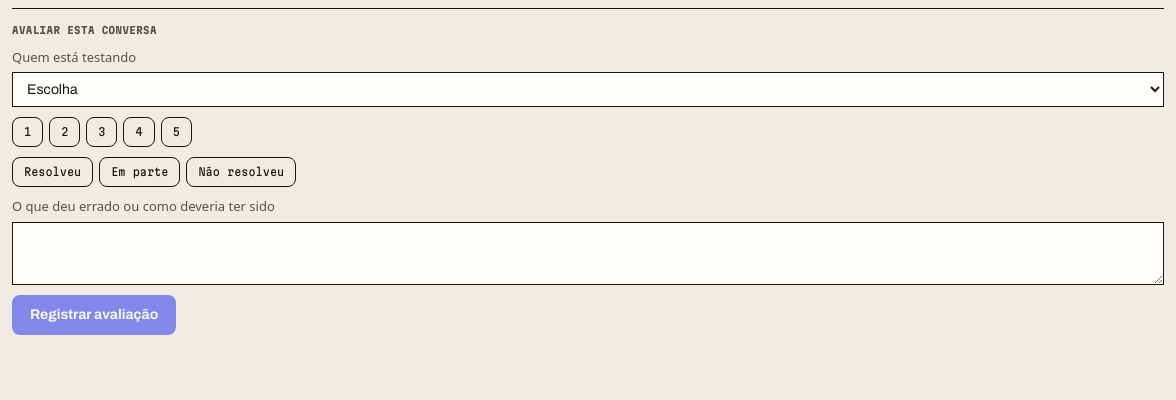
Test: falha ao enviar avisa e deixa tentar de novo
Step 1. Select "Prism411" in the dropdown labelled "Quem está testando" → {"x": 588, "y": 90}, box [12,72,1164,107]
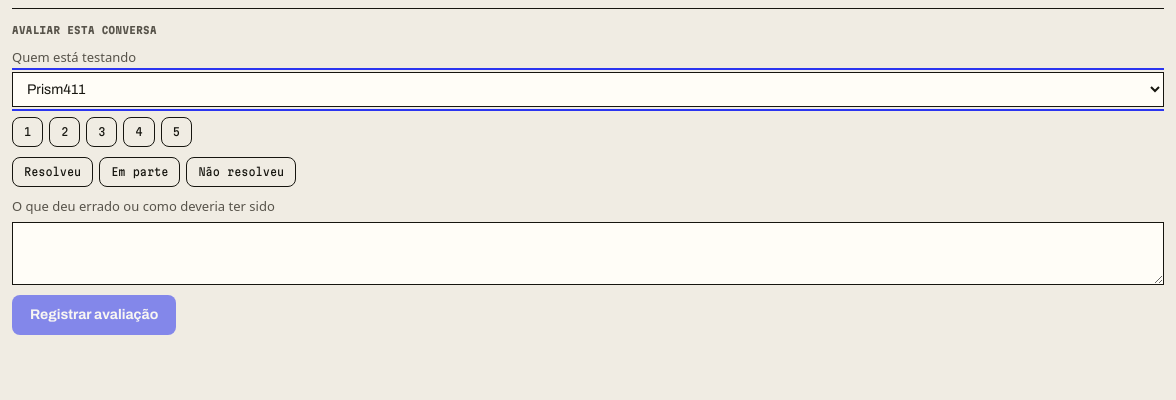
Step 2. Click the button "2" → {"x": 65, "y": 132}, box [49,117,80,147]
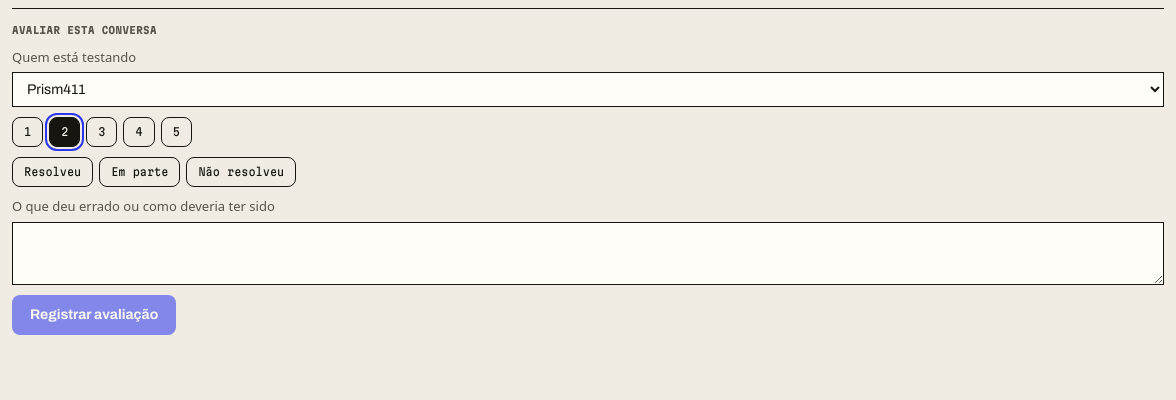
Step 3. Click the button "Não resolveu" → {"x": 241, "y": 172}, box [186,157,296,187]
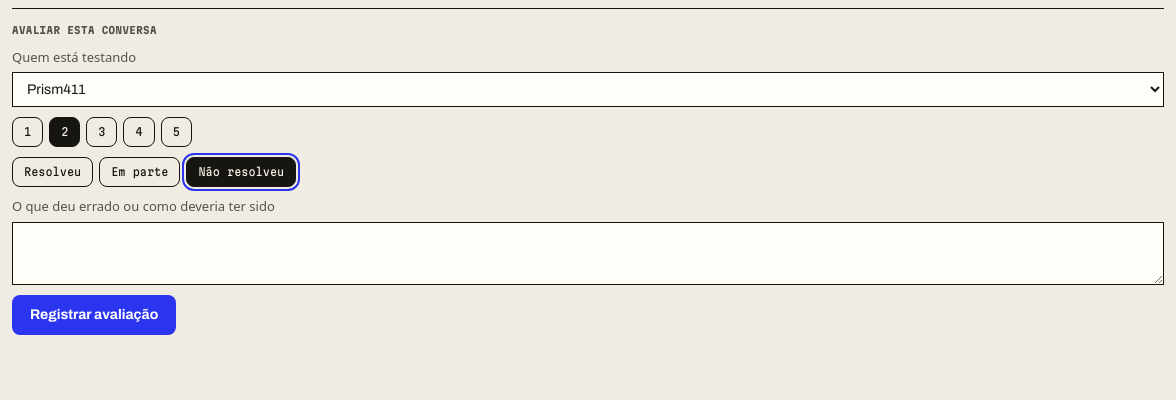
Step 4. Type "Pediu o valor de novo." into the text box labelled "O que deu errado ou como deveria ter sido" → {"x": 588, "y": 254}, box [12,222,1164,285]
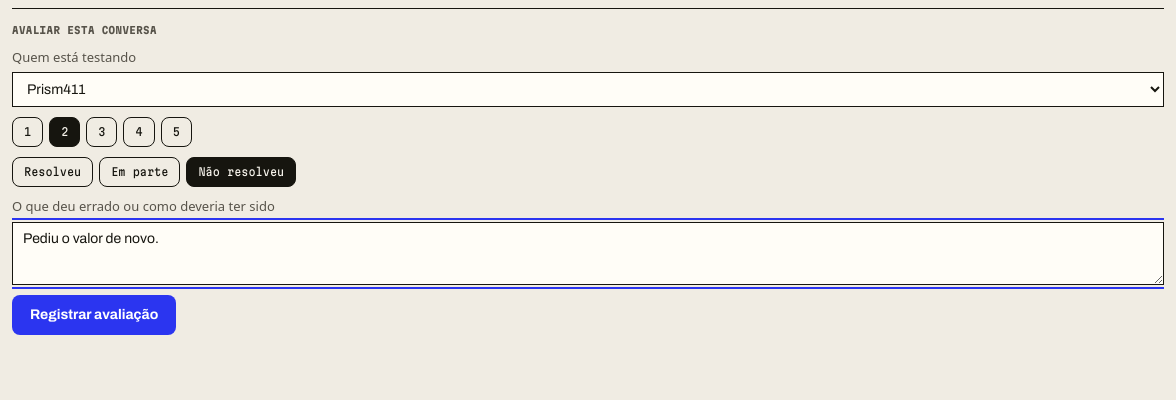
Step 5. Click the button "Registrar avaliação" → {"x": 94, "y": 315}, box [12,295,176,335]
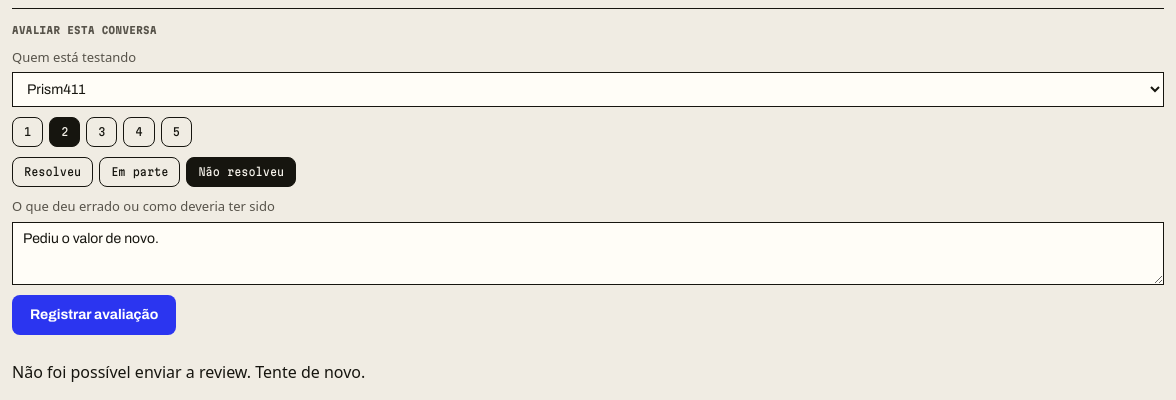
Check: the button "Registrar avaliação" is enabled, box [12,295,176,335]
Check: the message shows "Não foi possível enviar a review", box [12,361,365,383]
